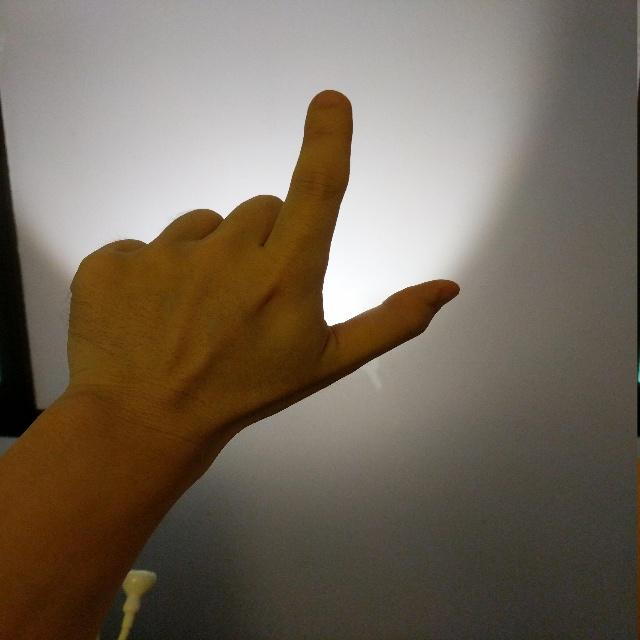L: (57, 83, 459, 440)
